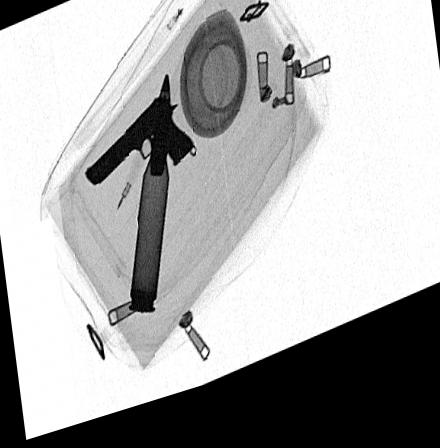Bullet: (128, 83, 170, 321)
Gun: (83, 102, 194, 193)
